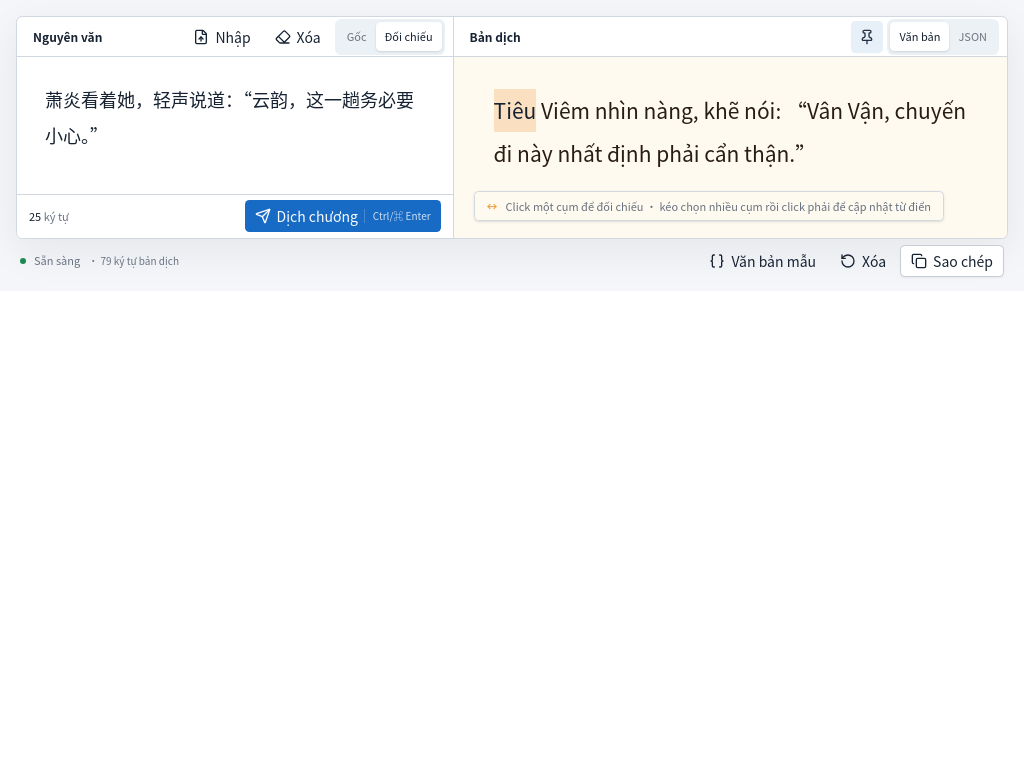
Test case: translation range pin › uses text selected inside one mapped range as the initial value
Right-click the button with aria-label "Range 1: Tiêu Viêm" at (542, 110), box [494,95,590,125]
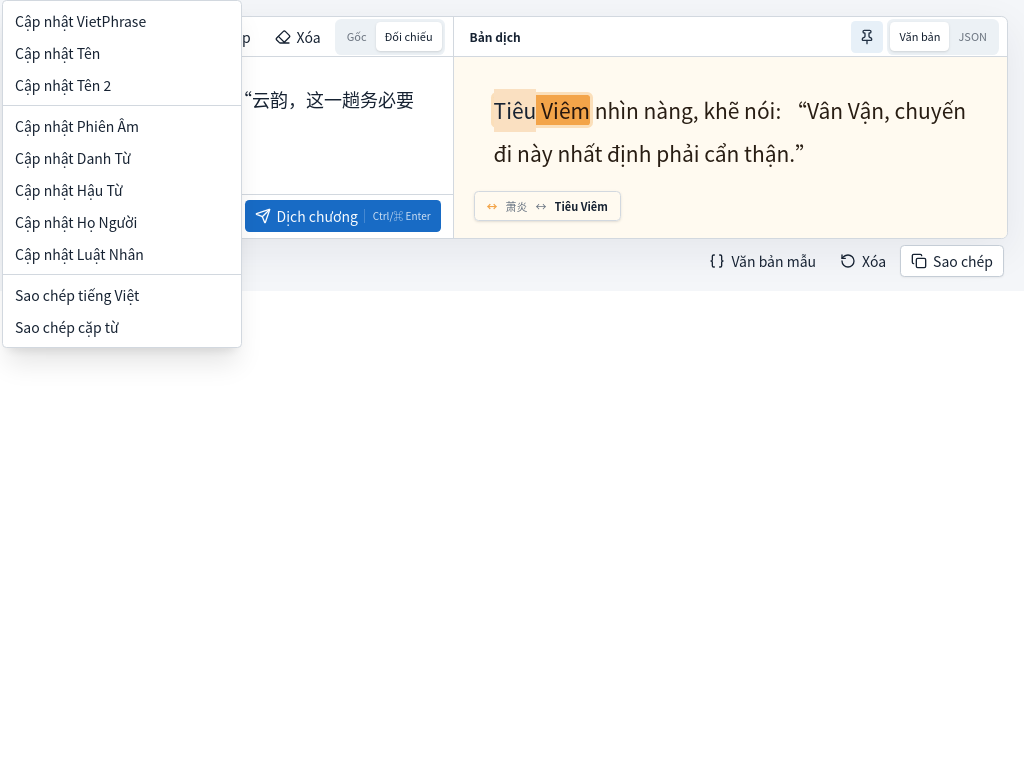
Click the menu item "Cập nhật Tên" at (58, 53), box [15,43,100,63]
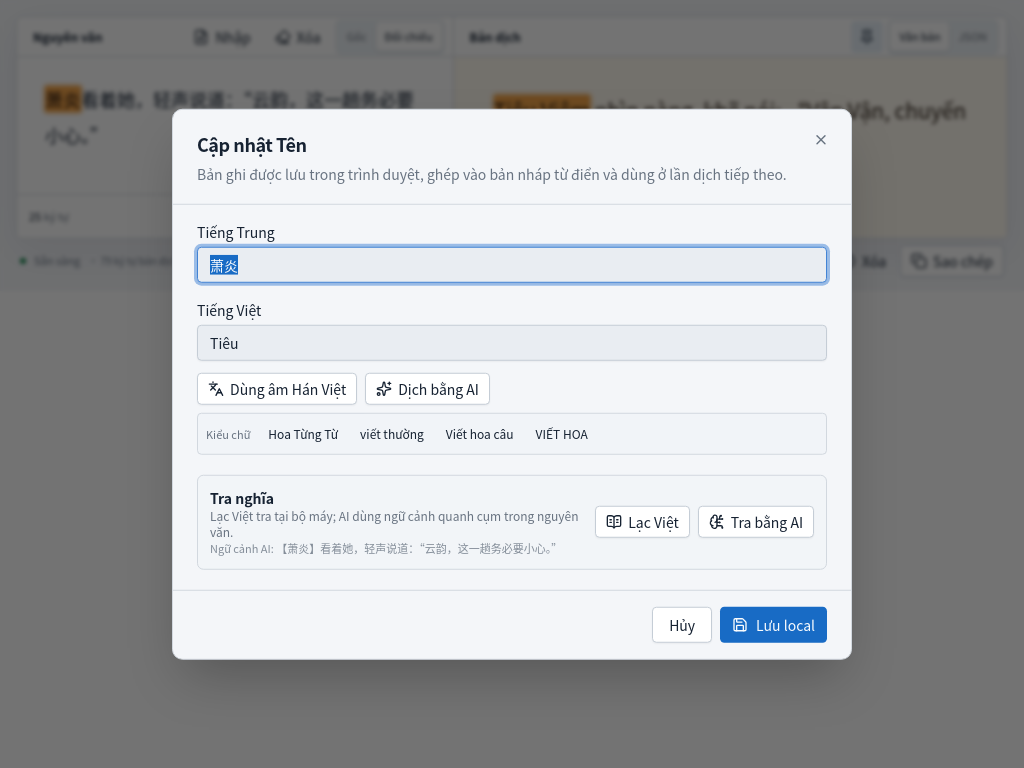
Result: the field labelled "Tiếng Trung" holds "萧炎" at [197,247,827,283]
Result: the field labelled "Tiếng Việt" holds "Tiêu" at [197,325,827,361]
